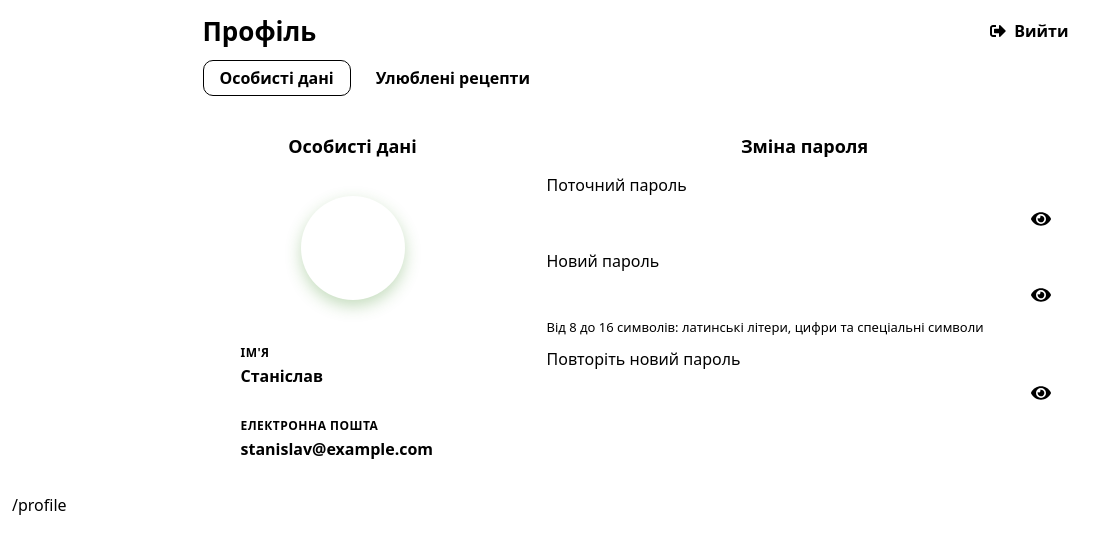
Test: ProfilePage: logout button › shows logout error
Step 1. Click the button "Вийти" → [1029, 31], box [972, 12, 1086, 50]
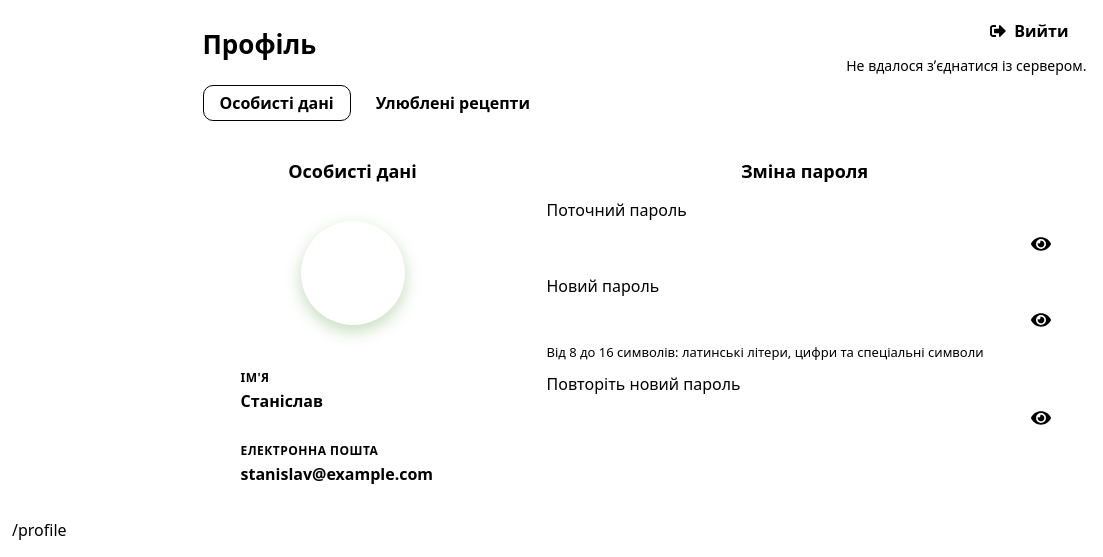
Now the message reads "Не вдалося зʼєднатися із сервером.", box [846, 56, 1086, 75]
